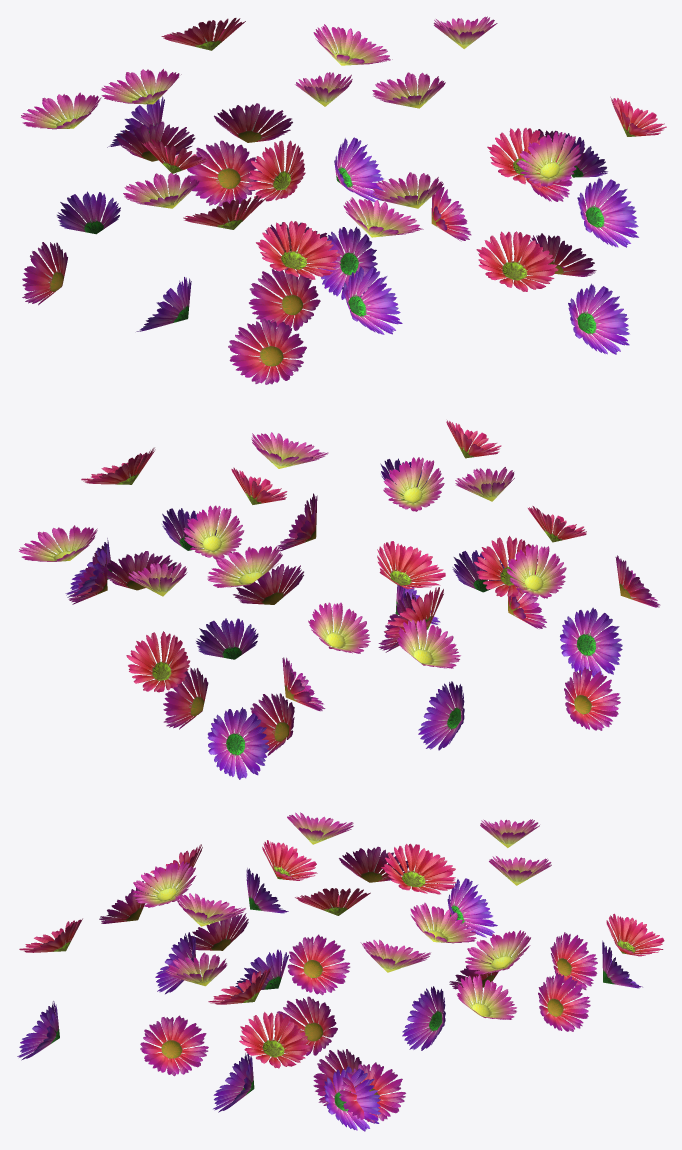
File: TRANS_UDC_VaseFlowers.obj
3 views of the same model, one above another, from view 1: azimuth 30°, elevation 25°; view 2: azimuth 150°, elevation 25°; view 3: azimuth 270°, elevation 25° (orthographic). The views are drawn at different scales.
Parts seen in each view (by area): view 1: TRANS_UDC_VaseFlowers; view 2: TRANS_UDC_VaseFlowers; view 3: TRANS_UDC_VaseFlowers.
Boxes of the visible parts, x1,y1,x2,y2 form: TRANS_UDC_VaseFlowers: [21, 16, 666, 384]; TRANS_UDC_VaseFlowers: [19, 420, 660, 779]; TRANS_UDC_VaseFlowers: [17, 812, 664, 1131].
Bounding box in the file's own units: 0.0425 × 0.0092 × 0.0447.
